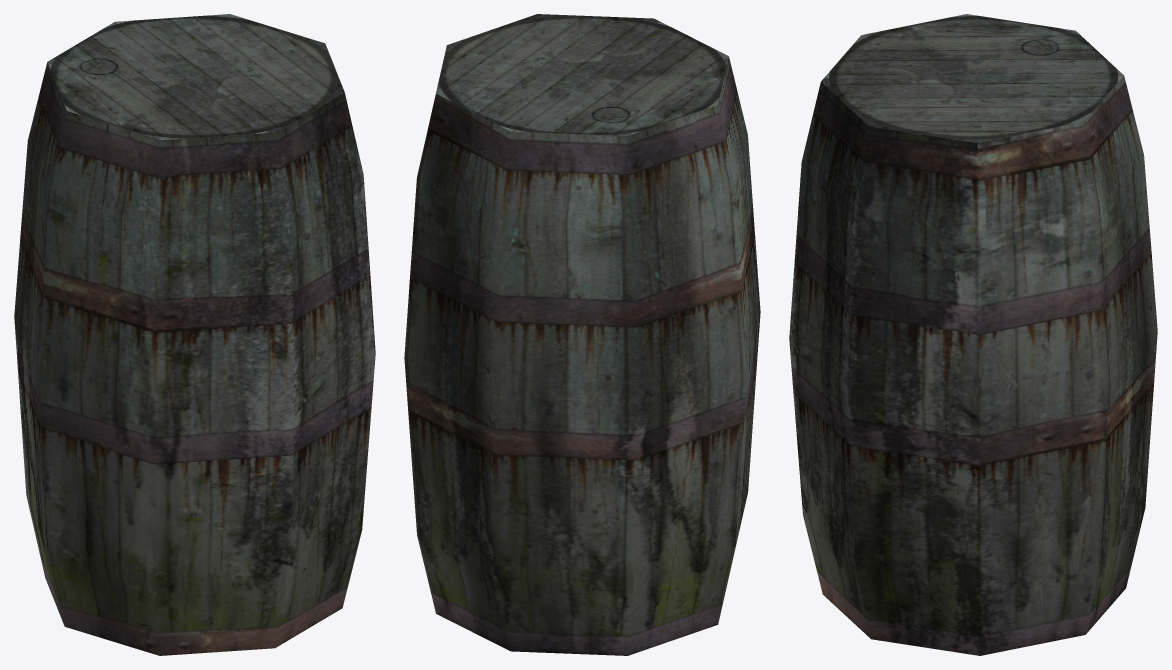
The model's file is Barrel_LOD03.fbx.
3 renders of one model, left to right at view 1: azimuth 30°, elevation 25°; view 2: azimuth 150°, elevation 25°; view 3: azimuth 270°, elevation 25°, orthographic.
Visible parts, largest first — view 1: Mesh Object; view 2: Mesh Object; view 3: Mesh Object.
Boxes of the visible parts, bbox=[...] form: Mesh Object: bbox=[14, 14, 375, 655]; Mesh Object: bbox=[404, 14, 760, 655]; Mesh Object: bbox=[789, 14, 1157, 655].
Bounding box in the file's own units: 0.7084 × 1.09 × 0.7084.
